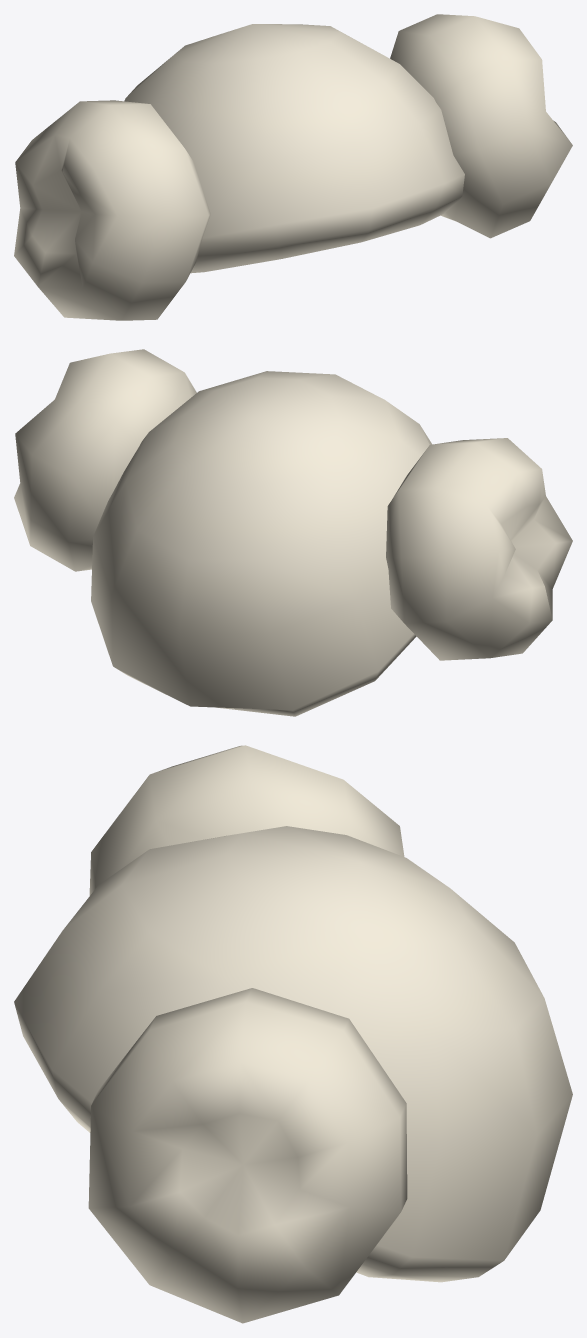
File: Headgear_25.fbx
3 views of the same model, one above another, from view 1: azimuth 30°, elevation 25°; view 2: azimuth 150°, elevation 25°; view 3: azimuth 270°, elevation 25° (orthographic). The views are drawn at different scales.
Parts seen in each view (by area): view 1: Headgear_25; view 2: Headgear_25; view 3: Headgear_25.
Boxes of the visible parts, x1,y1,x2,y2 form: Headgear_25: (14, 14, 572, 320); Headgear_25: (14, 349, 572, 716); Headgear_25: (14, 745, 572, 1323).
Size of the model in its own units: 105 by 50.88 by 68.48.
